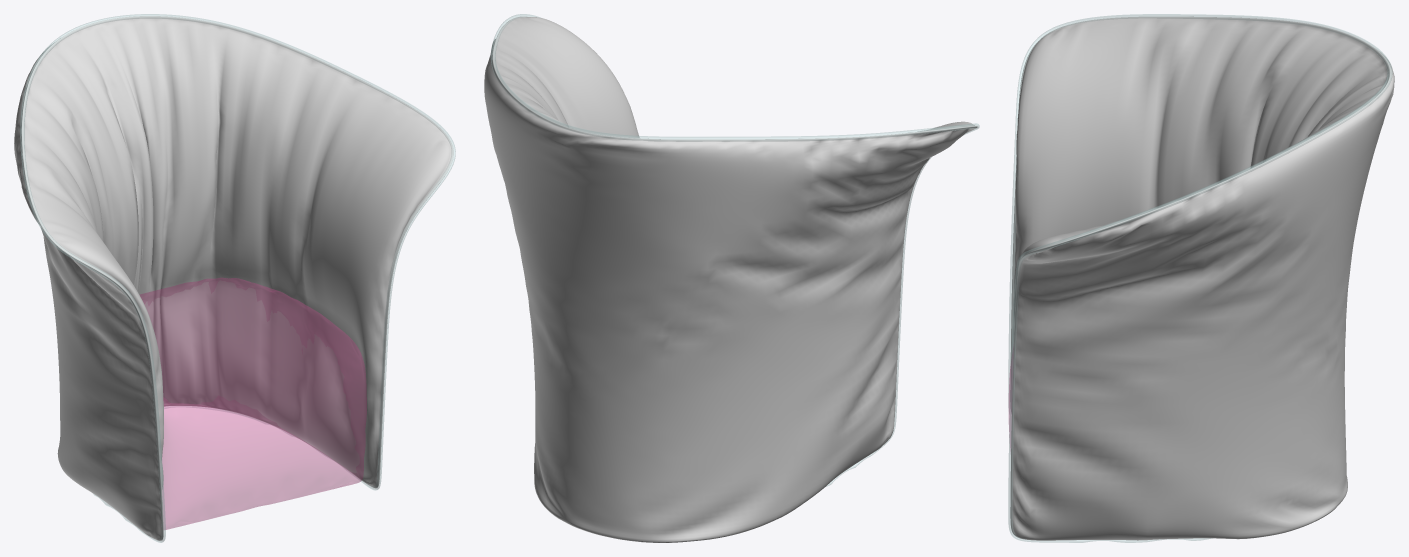
Rendered from Sofa.glb.
3 renders of one model, left to right at view 1: azimuth 30°, elevation 25°; view 2: azimuth 150°, elevation 25°; view 3: azimuth 270°, elevation 25°, orthographic. The views are drawn at different scales.
Visible parts, largest first — view 1: Artichoke_Red_color_002, Artichoke_Red_color_003, Artichoke_Red_color_001; view 2: Artichoke_Red_color_002, Artichoke_Red_color_001; view 3: Artichoke_Red_color_002, Artichoke_Red_color_001.
Part boxes in pixels (bbox=[...]): Artichoke_Red_color_002: bbox=[14, 16, 453, 540]; Artichoke_Red_color_003: bbox=[140, 278, 366, 529]; Artichoke_Red_color_001: bbox=[20, 14, 455, 542]; Artichoke_Red_color_002: bbox=[484, 16, 977, 542]; Artichoke_Red_color_001: bbox=[491, 14, 979, 486]; Artichoke_Red_color_002: bbox=[1010, 16, 1394, 540]; Artichoke_Red_color_001: bbox=[1008, 14, 1392, 542].
Bounding box in the file's own units: 98.01 × 87.49 × 73.61.
